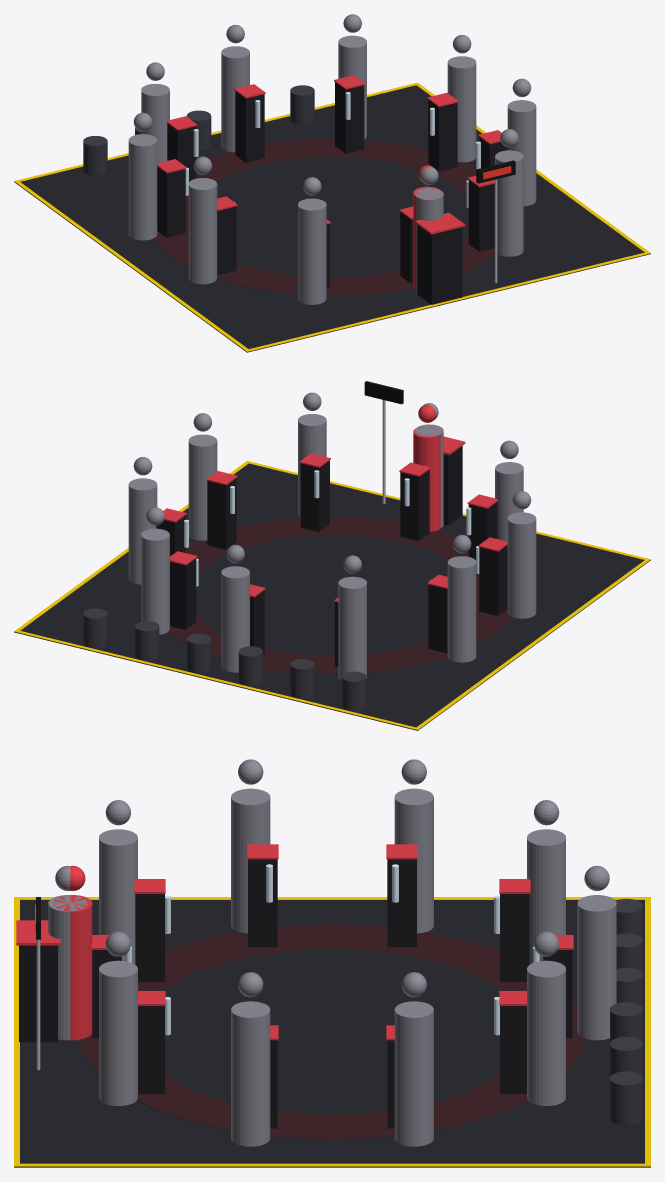
The model's file is G06_THE_STRANGER.obj.
3 views of the same model, one above another, from view 1: azimuth 30°, elevation 25°; view 2: azimuth 150°, elevation 25°; view 3: azimuth 270°, elevation 25° (orthographic). The views are drawn at different scales.
Parts seen in each view (by area): view 1: floor_area, floor_circle_inner, floor_circle, operator_lectern, player_7_body, player_8_body, player_9_body, player_1_body, player_3_body, player_5_body, player_2_body, player_podium_7 (+18 smaller); view 2: floor_area, floor_circle_inner, floor_circle, player_7_body, player_8_body, player_4_body, player_6_body, player_5_body, player_2_body, player_3_body, player_podium_8, player_podium_0 (+23 smaller); view 3: floor_area, floor_circle_inner, floor_circle, player_2_body, player_3_body, player_1_body, player_4_body, player_5_body, player_6_body, player_9_body, player_7_body, player_8_body (+25 smaller).
Boxes of the visible parts, x1,y1,x2,y2 form: floor_area: [14, 85, 650, 352]; floor_circle_inner: [216, 156, 468, 277]; floor_circle: [153, 138, 494, 295]; operator_lectern: [417, 225, 462, 304]; player_7_body: [128, 134, 157, 240]; player_8_body: [188, 178, 217, 284]; player_9_body: [298, 198, 326, 304]; player_1_body: [495, 150, 523, 256]; player_3_body: [447, 56, 476, 162]; player_5_body: [221, 46, 249, 152]; player_2_body: [507, 100, 536, 206]; player_podium_7: [157, 167, 185, 237]; floor_area: [14, 463, 650, 730]; floor_circle_inner: [196, 535, 448, 655]; floor_circle: [168, 517, 511, 674]; player_7_body: [447, 556, 476, 662]; player_8_body: [507, 512, 536, 618]; player_4_body: [141, 528, 169, 634]; player_6_body: [338, 576, 366, 680]; player_5_body: [221, 566, 249, 672]; player_2_body: [188, 434, 217, 540]; player_3_body: [128, 478, 157, 584]; player_podium_8: [479, 545, 507, 615]; player_podium_0: [400, 469, 429, 540]; floor_area: [14, 900, 650, 1167]; floor_circle_inner: [163, 948, 501, 1114]; floor_circle: [79, 924, 585, 1139]; player_2_body: [231, 1001, 270, 1146]; player_3_body: [394, 1001, 433, 1146]; player_1_body: [99, 960, 137, 1105]; player_4_body: [527, 960, 565, 1105]; player_5_body: [577, 895, 616, 1040]; player_6_body: [527, 829, 565, 964]; player_9_body: [99, 829, 137, 964]; player_7_body: [394, 788, 433, 933]; player_8_body: [231, 788, 270, 933].
Size of the model in its own units: 6.5 by 1.87 by 6.5.
